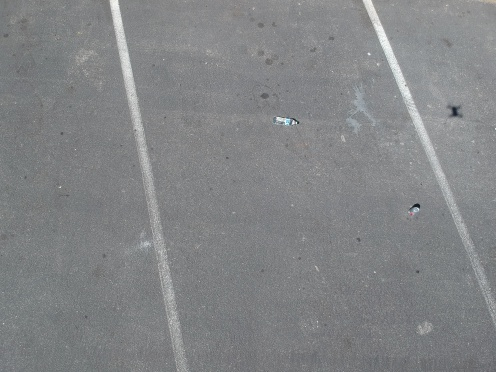bottle: (268, 113, 301, 130)
can: (403, 198, 427, 222)
